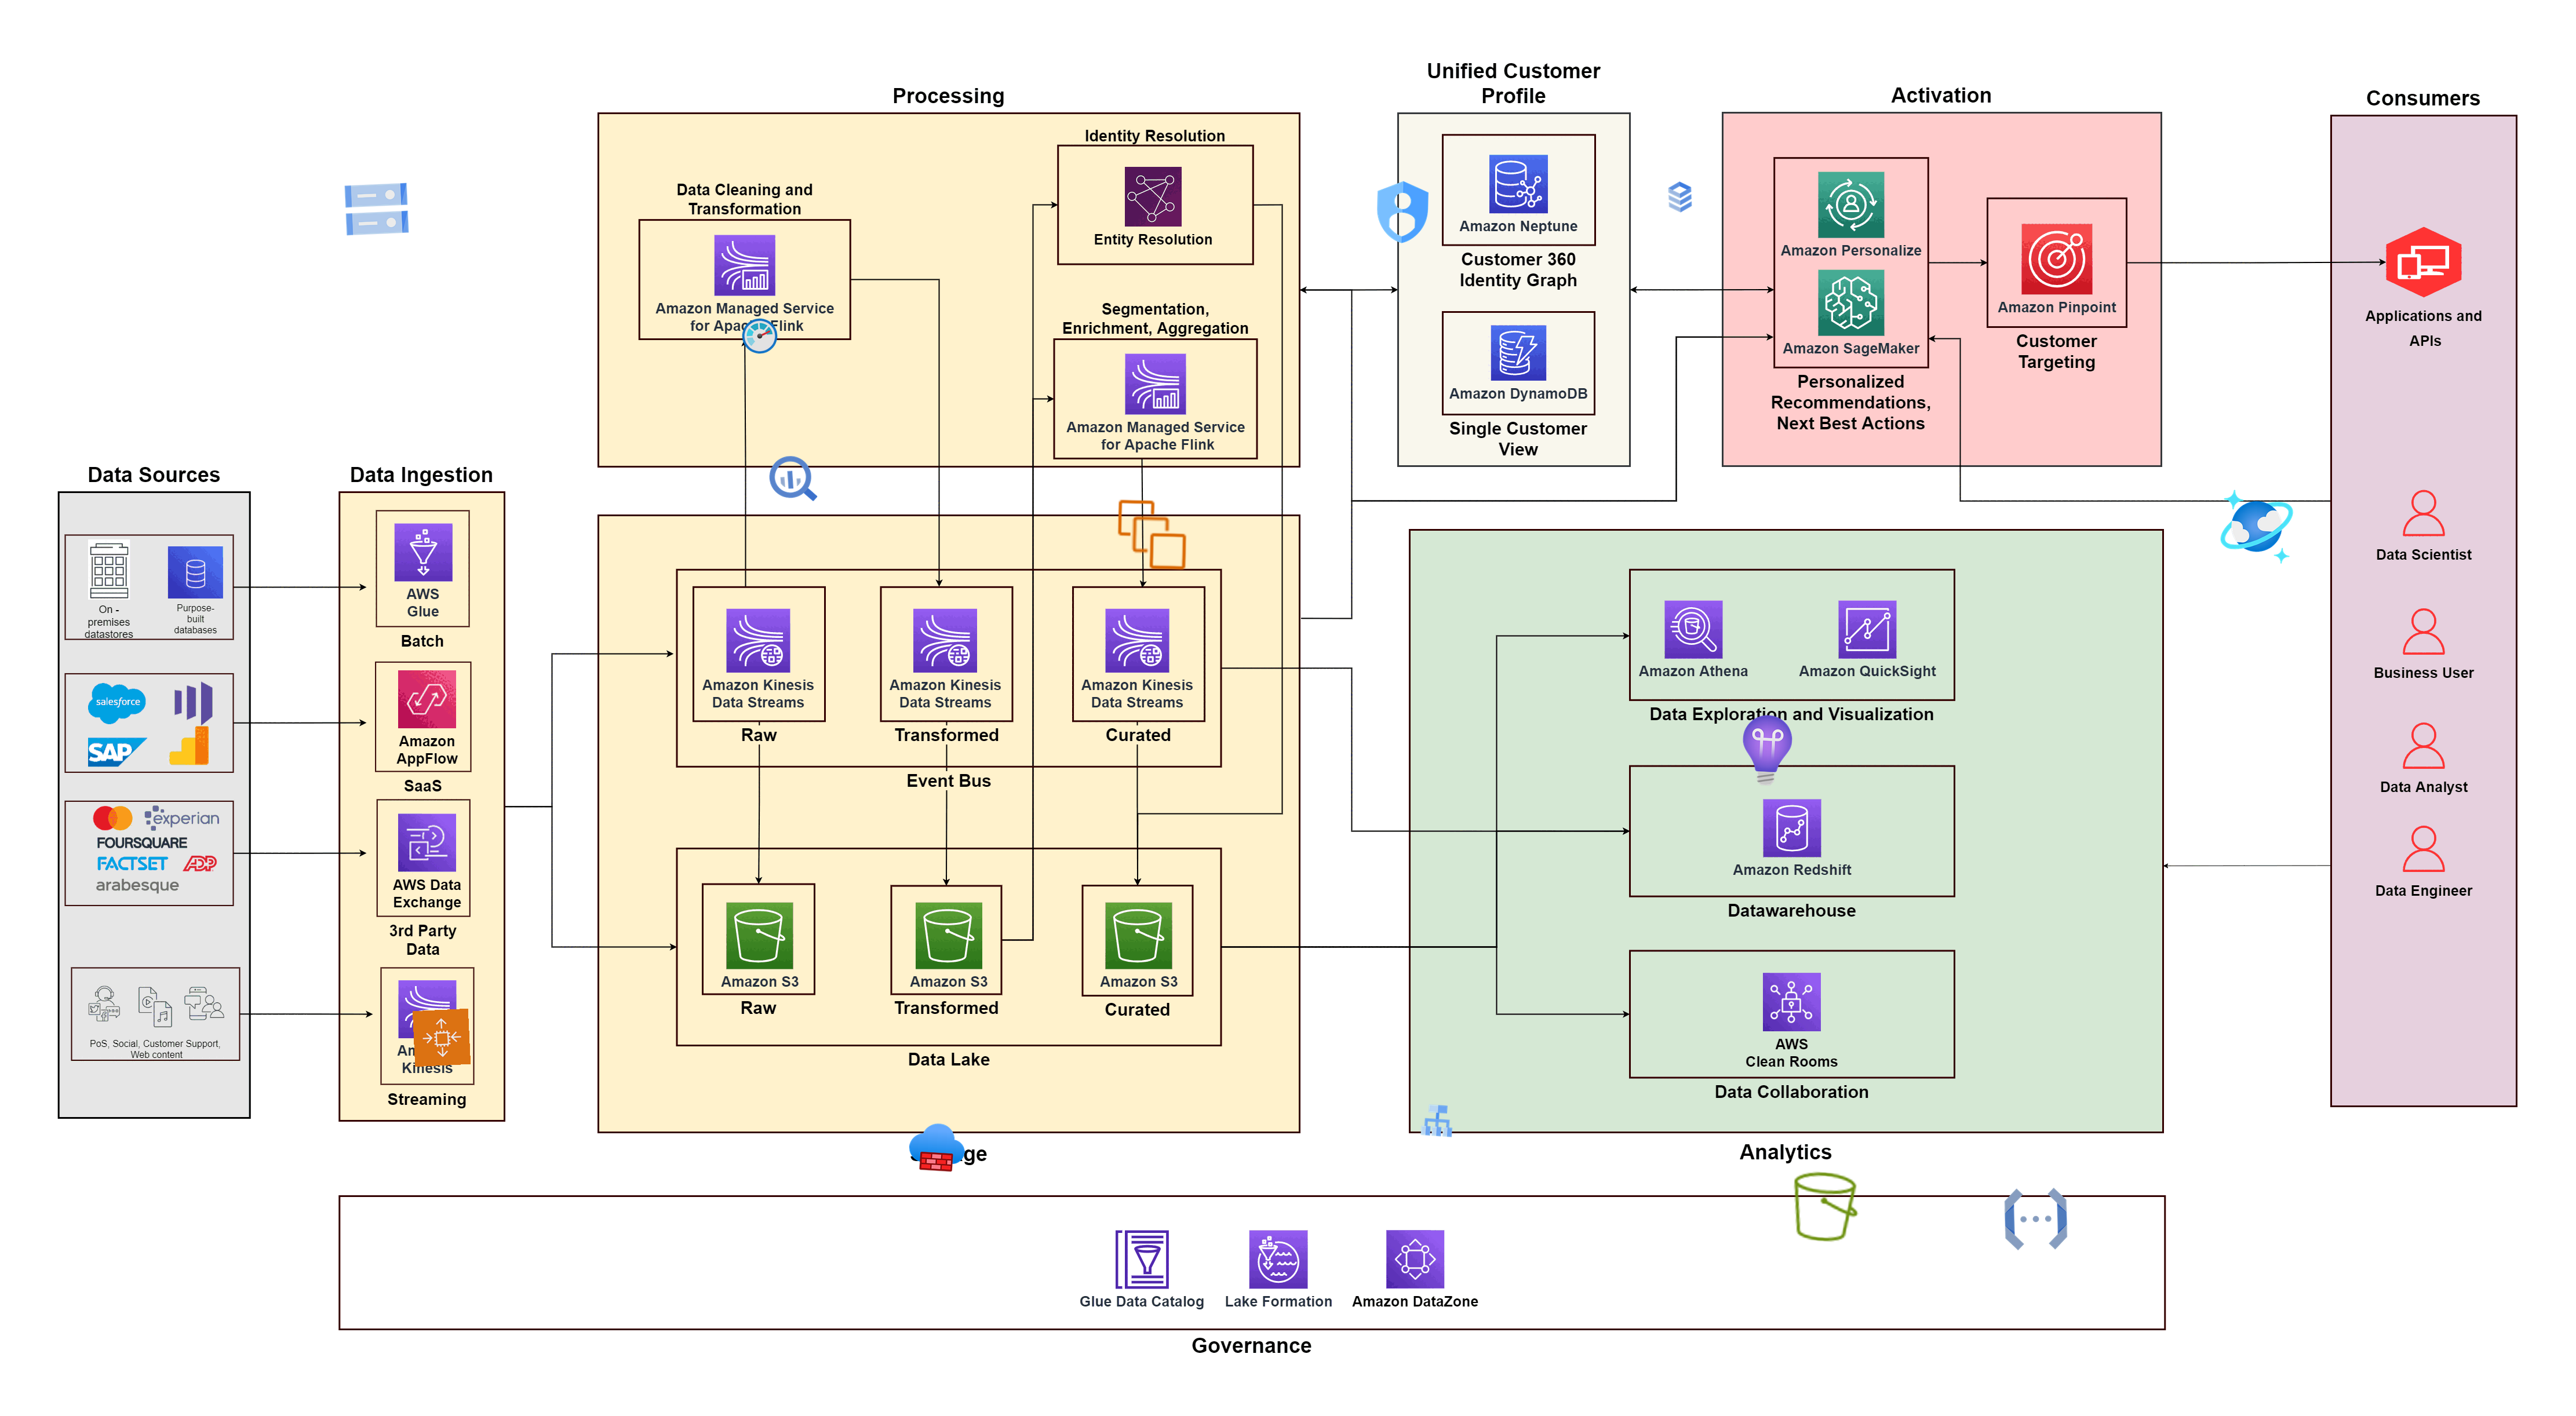aws_amazon_ec2_auto_scaling: (412, 1008, 471, 1067)
aws_ec2_instances: (1114, 497, 1191, 574)
aws_simple_storage_service_s3_standard: (1784, 1167, 1866, 1247)
azure_application_insights: (1728, 711, 1807, 790)
azure_cosmos_db: (2217, 487, 2297, 567)
azure_firewalls: (907, 1118, 966, 1177)
azure_monitor: (739, 316, 780, 356)
gcp_bigquery: (762, 448, 823, 509)
gcp_cloud_functions: (1997, 1181, 2074, 1257)
gcp_cloud_load_balancing: (1416, 1100, 1458, 1140)
gcp_cloud_sql: (1660, 178, 1700, 216)
gcp_cloud_storage: (338, 171, 415, 248)
gcp_identity_and_access_management: (1364, 174, 1441, 251)
